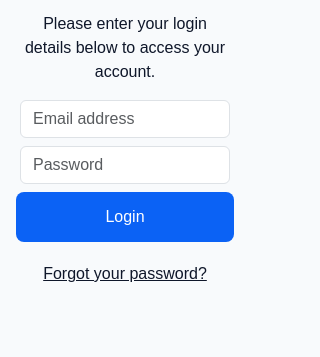
Test case: UserLogin Component › handles unverified user status
Type "unverified@domain.com" into the field with placeholder "Email address". click: (125, 119)
box: [20, 100, 230, 138]
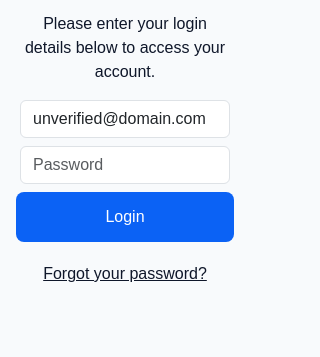
Type "password123" into the password field with placeholder "Password". click: (125, 165)
box: [20, 146, 230, 184]
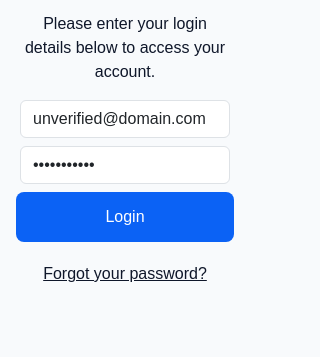
Click the button "Login". click: (125, 217)
box: [16, 192, 234, 242]
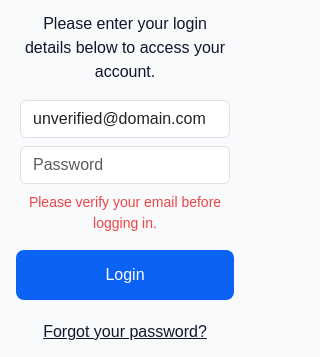
Now the text "Please verify your email before logging in." is shown, box [16, 192, 234, 234]
